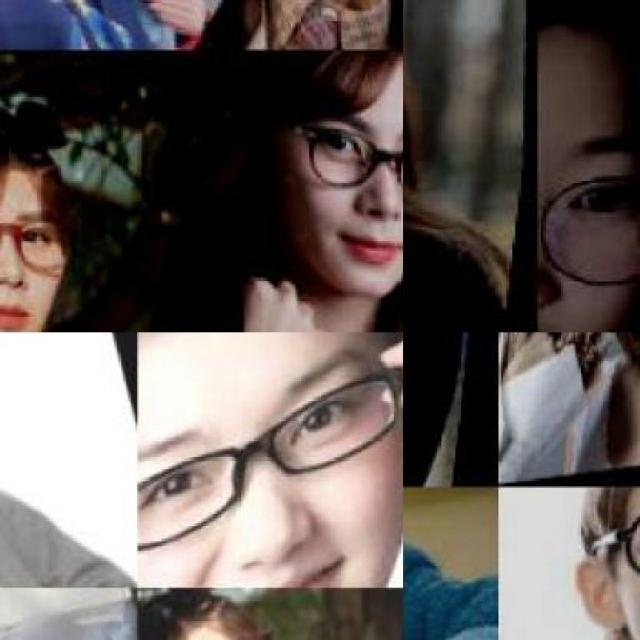glasses: (137, 357, 398, 552), (270, 107, 409, 196), (537, 169, 638, 291), (0, 155, 82, 300), (577, 486, 638, 594)
